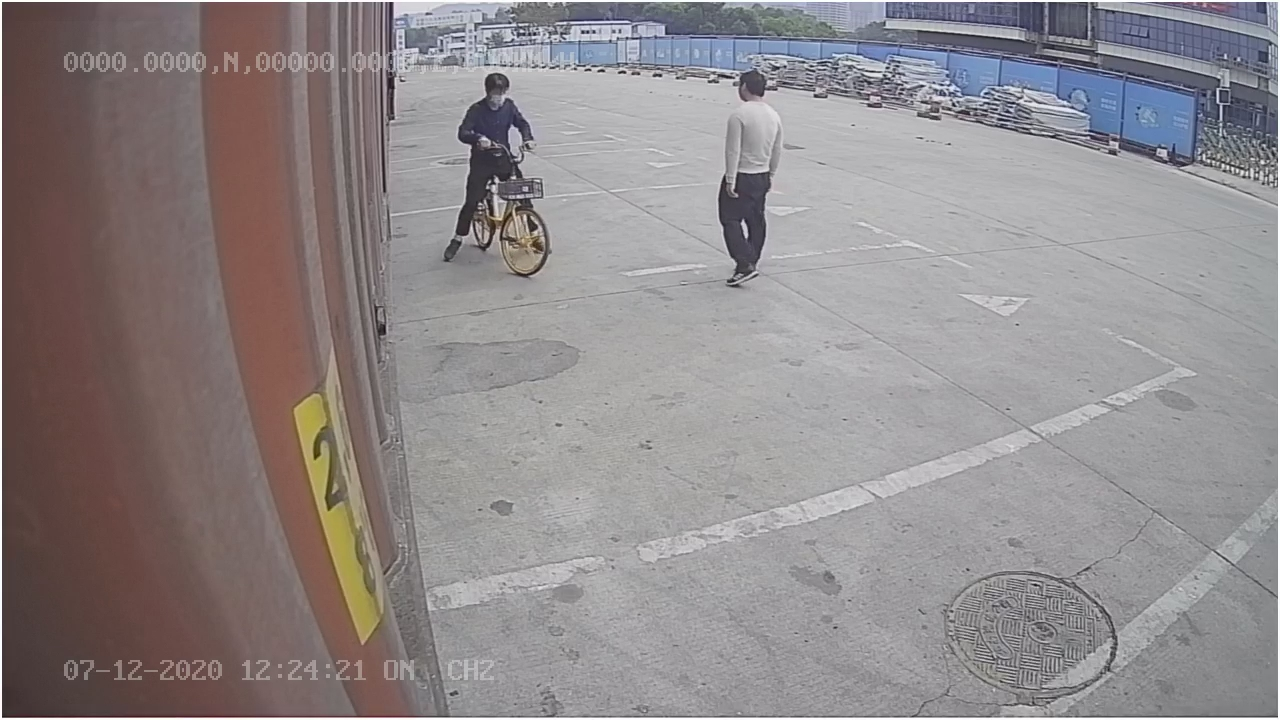person: (712, 69, 788, 293)
